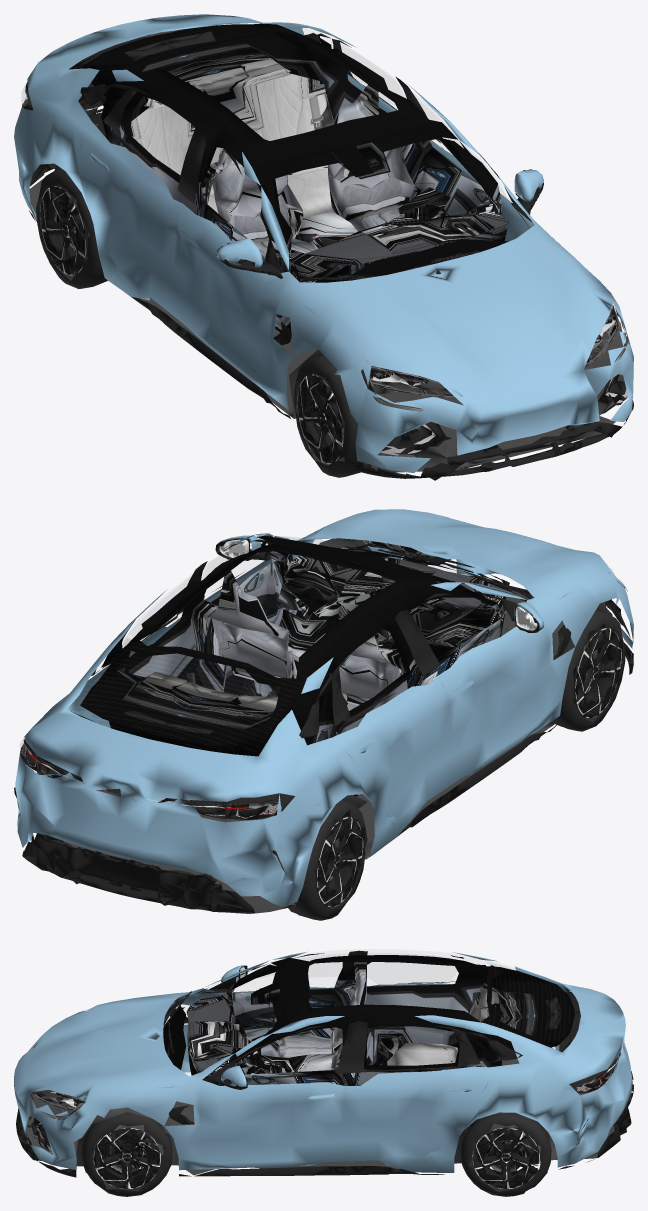
The model's file is byd_seal.glb.
The picture shows the model from 3 angles, top to bottom: view 1: azimuth 30°, elevation 25°; view 2: azimuth 150°, elevation 25°; view 3: azimuth 270°, elevation 25°; orthographic projection. The views are drawn at different scales.
Parts seen in each view (by area): view 1: bodypaint_A_Car_Paint_0, Interior_interior_0, blk.001_black_Col_Mat_0, Interior_sticker_glass_surr_0, UC_under_0, blk_B_Rim_0, tyre_tire_0, blkmat_HL_Mat_0, crom_chrome1_0, alpha_rim_map_0, blk_rear_light_blk_map_C_Plas_0, Uc_Tail_light_Plas_0; view 2: bodypaint_A_Car_Paint_0, Interior_interior_0, blk.001_black_Col_Mat_0, blk_B_Rim_0, tyre_tire_0, UC_under_0, Interior_sticker_glass_surr_0, Uc_Tail_light_Plas_0, crom_chrome1_0, alpha_rim_map_0, blk_rear_light_blk_map_C_Plas_0, glass_mirror_mirror_0 (+1 smaller); view 3: bodypaint_A_Car_Paint_0, Interior_interior_0, blk.001_black_Col_Mat_0, tyre_tire_0, blk_B_Rim_0, UC_under_0, Interior_sticker_glass_surr_0, alpha_rim_map_0, crom_chrome1_0, disk_phong27breaks_0, Uc_Tail_light_Plas_0, blkmat_HL_Mat_0 (+1 smaller).
Part boxes in pixels (box(x1,y1,x2,y2)): bodypaint_A_Car_Paint_0: box(14, 14, 633, 472); Interior_interior_0: box(81, 24, 508, 336); blk.001_black_Col_Mat_0: box(29, 32, 633, 480); Interior_sticker_glass_surr_0: box(73, 24, 529, 281); UC_under_0: box(29, 30, 624, 472); blk_B_Rim_0: box(40, 184, 344, 463); tyre_tire_0: box(36, 167, 615, 477); blkmat_HL_Mat_0: box(369, 304, 620, 397); crom_chrome1_0: box(26, 95, 627, 464); alpha_rim_map_0: box(43, 192, 341, 461); blk_rear_light_blk_map_C_Plas_0: box(97, 31, 215, 112); Uc_Tail_light_Plas_0: box(22, 26, 204, 110); bodypaint_A_Car_Paint_0: box(15, 509, 633, 906); Interior_interior_0: box(80, 540, 508, 815); blk.001_black_Col_Mat_0: box(14, 538, 633, 912); blk_B_Rim_0: box(315, 626, 620, 906); tyre_tire_0: box(41, 609, 625, 920); UC_under_0: box(37, 538, 612, 913); Interior_sticker_glass_surr_0: box(71, 535, 526, 755); Uc_Tail_light_Plas_0: box(20, 738, 294, 819); crom_chrome1_0: box(25, 561, 630, 906); alpha_rim_map_0: box(321, 631, 620, 900); blk_rear_light_blk_map_C_Plas_0: box(43, 545, 251, 880); glass_mirror_mirror_0: box(219, 539, 537, 630); bodypaint_A_Car_Paint_0: box(14, 951, 632, 1172); Interior_interior_0: box(186, 955, 574, 1085); blk.001_black_Col_Mat_0: box(16, 950, 633, 1177); tyre_tire_0: box(81, 1112, 551, 1196); blk_B_Rim_0: box(93, 1127, 539, 1188); UC_under_0: box(26, 1047, 614, 1175); Interior_sticker_glass_surr_0: box(163, 957, 572, 1072); alpha_rim_map_0: box(98, 1130, 537, 1186); crom_chrome1_0: box(37, 1046, 623, 1188); disk_phong27breaks_0: box(106, 1133, 529, 1173); Uc_Tail_light_Plas_0: box(559, 991, 620, 1092); blkmat_HL_Mat_0: box(32, 1042, 86, 1111).
Size of the model in its own units: 2.11 by 1.46 by 4.75.
Materials: 24 (14 with a texture image).
